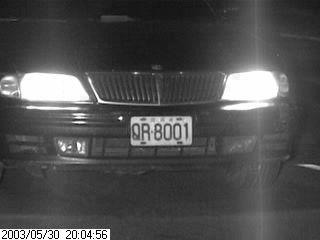plate: (129, 114, 194, 146)
